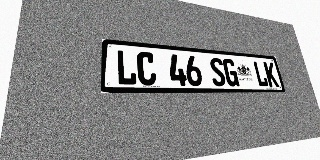4: (168, 54, 187, 86)
6: (184, 55, 203, 86)
C: (136, 51, 157, 86)
G: (222, 58, 240, 86)
K: (263, 62, 279, 87)
L: (116, 50, 137, 85), (252, 61, 269, 87)
S: (209, 57, 227, 86)
